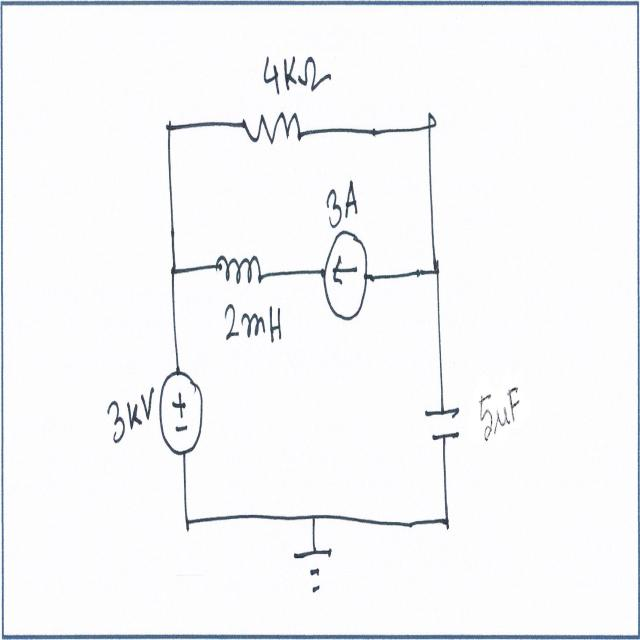capacitor: (423, 405, 464, 443)
current_source: (321, 227, 368, 325)
ground: (294, 542, 335, 593)
inductor: (210, 250, 266, 294)
resistor: (240, 102, 305, 156)
voltage_source: (156, 363, 204, 472)
